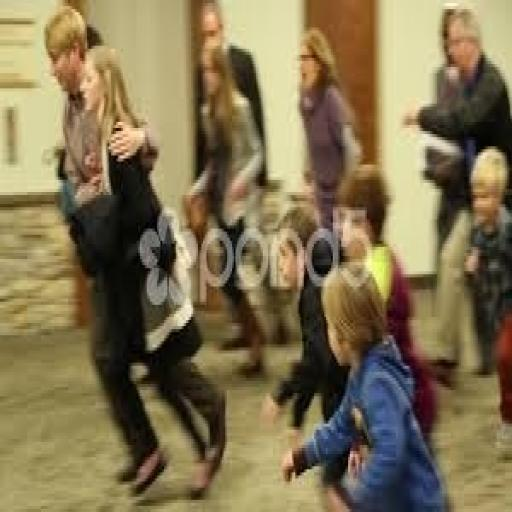running: (41, 6, 229, 503), (278, 256, 451, 509), (182, 40, 270, 381), (292, 24, 363, 238)
